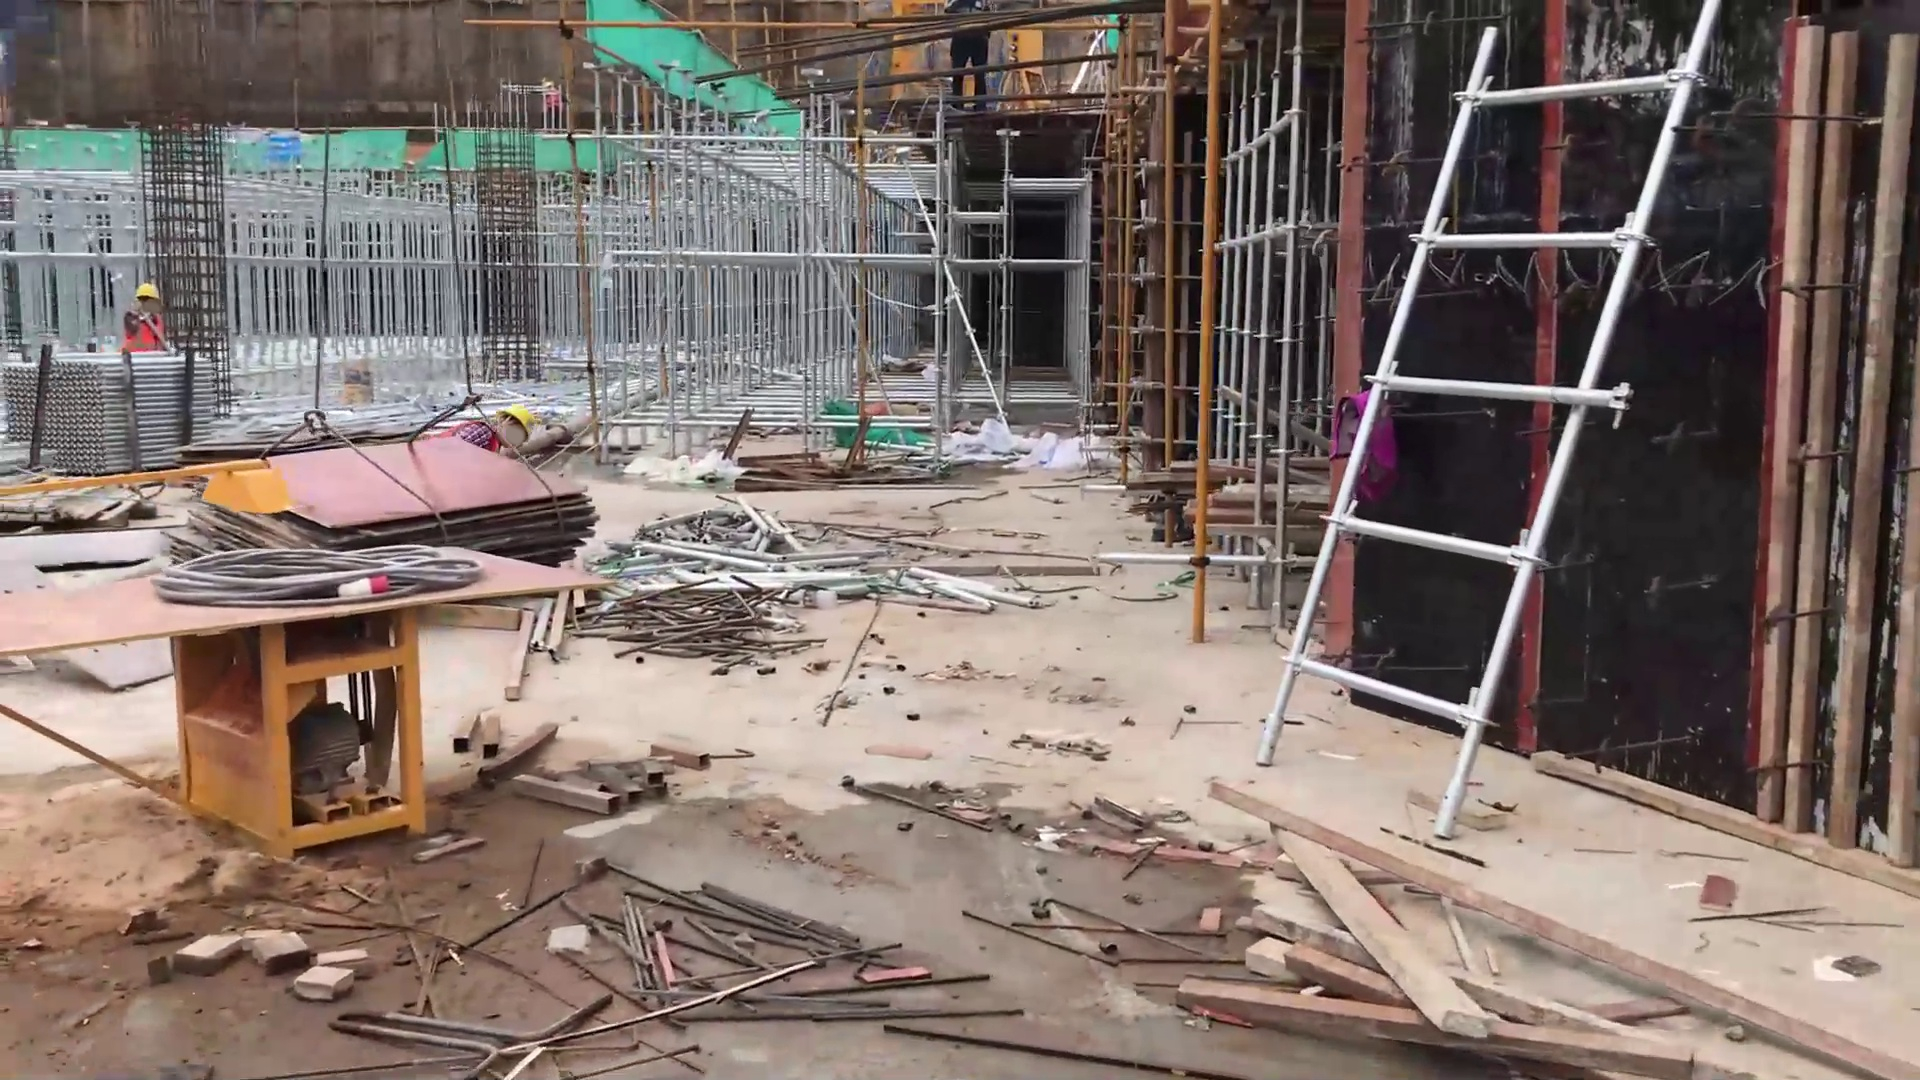board: (174, 437, 609, 557)
cutter: (1, 456, 618, 858)
ebox: (996, 25, 1057, 111)
helmet: (495, 403, 537, 441), (133, 282, 161, 300)
person: (941, 1, 992, 111), (447, 401, 537, 457), (120, 281, 170, 354)
scaffold: (1, 349, 219, 476)
vest: (122, 308, 167, 351)
